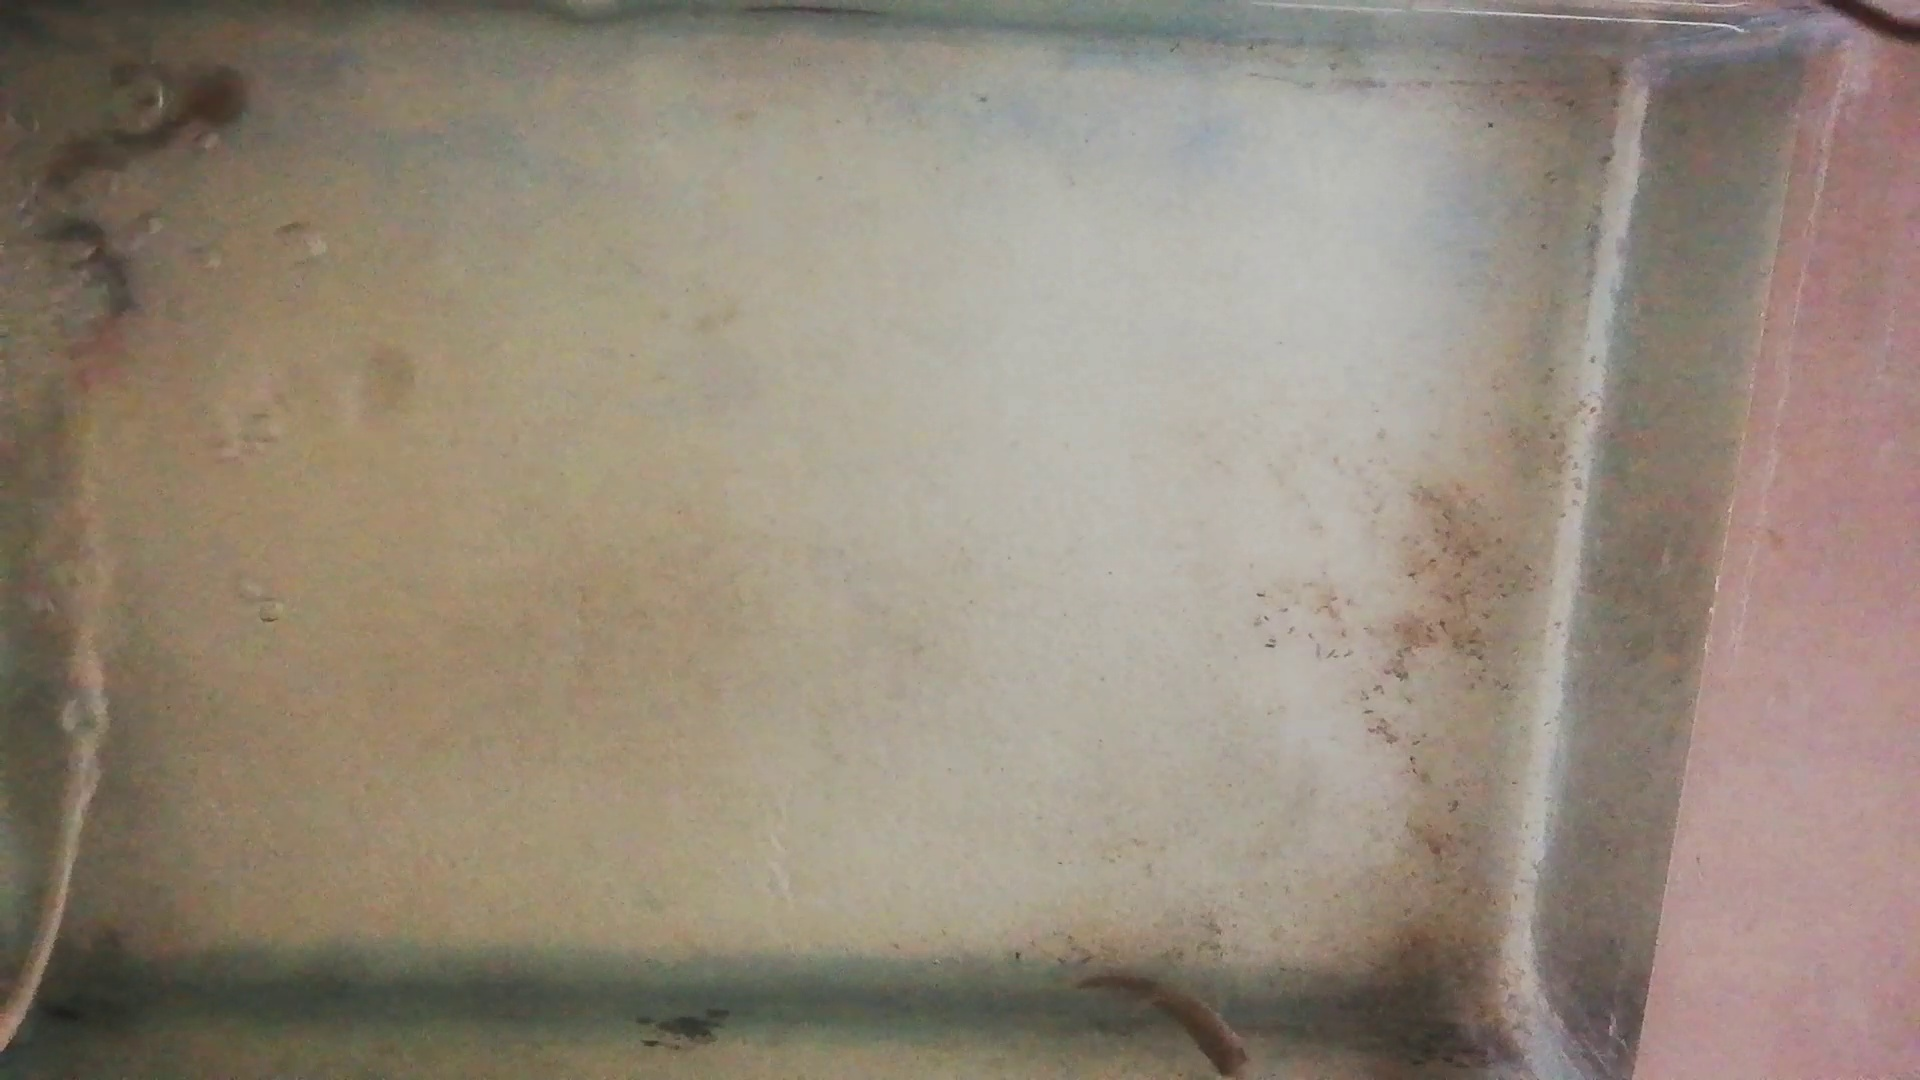fish: (44, 65, 251, 196), (1077, 971, 1251, 1079)
